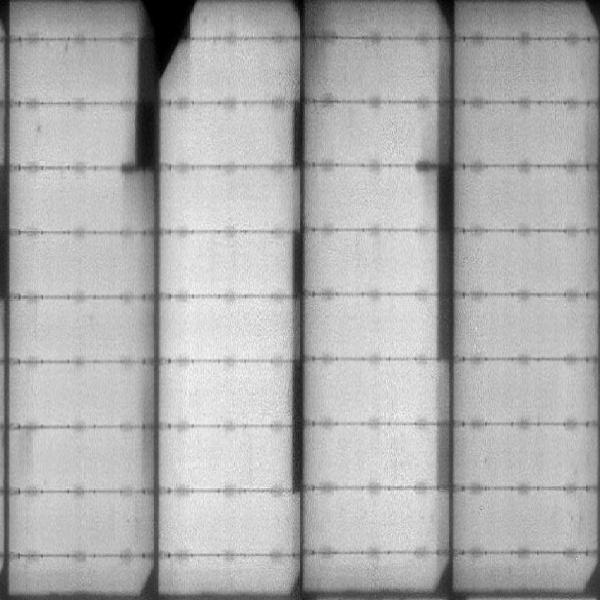black_border: (432, 32, 457, 494), (289, 225, 312, 500), (132, 30, 161, 184), (1, 156, 13, 314), (287, 101, 306, 174)
broken: (158, 1, 202, 81)
